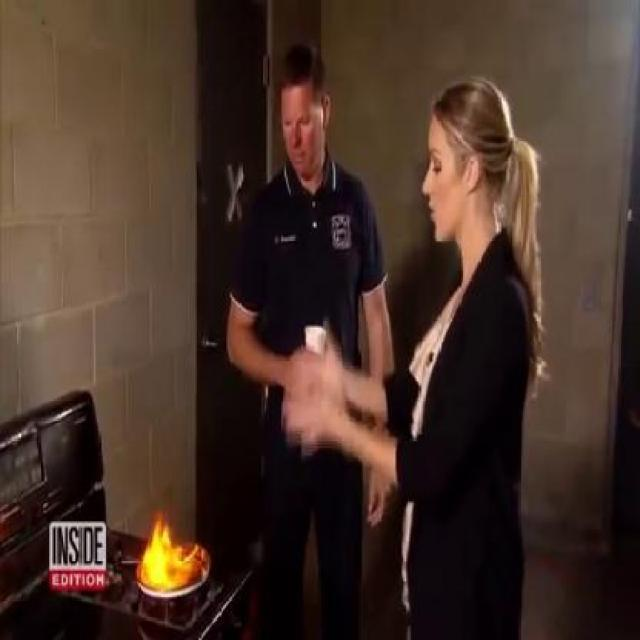fire: (132, 492, 223, 603)
